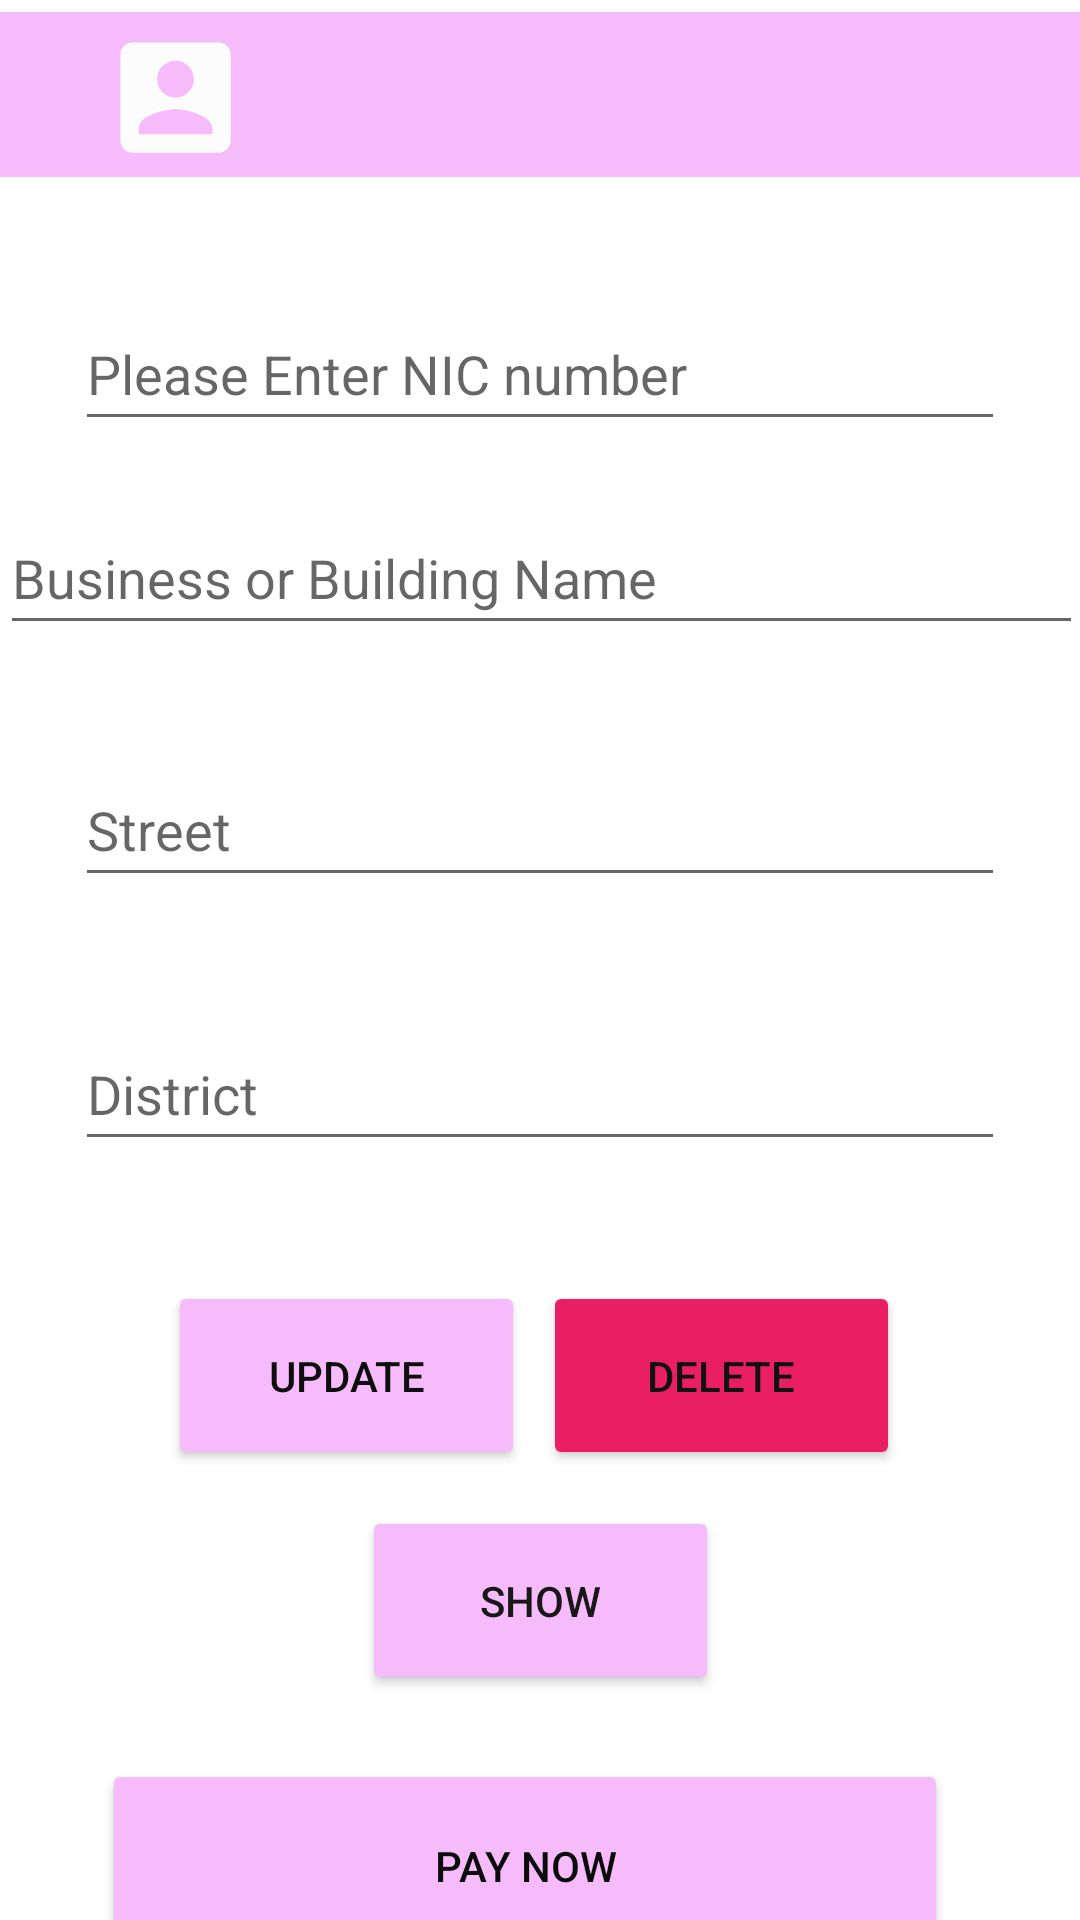

Named icons in this screenshot (1080 x 1920) and their centers, (x,y):
account box: (175,97)
